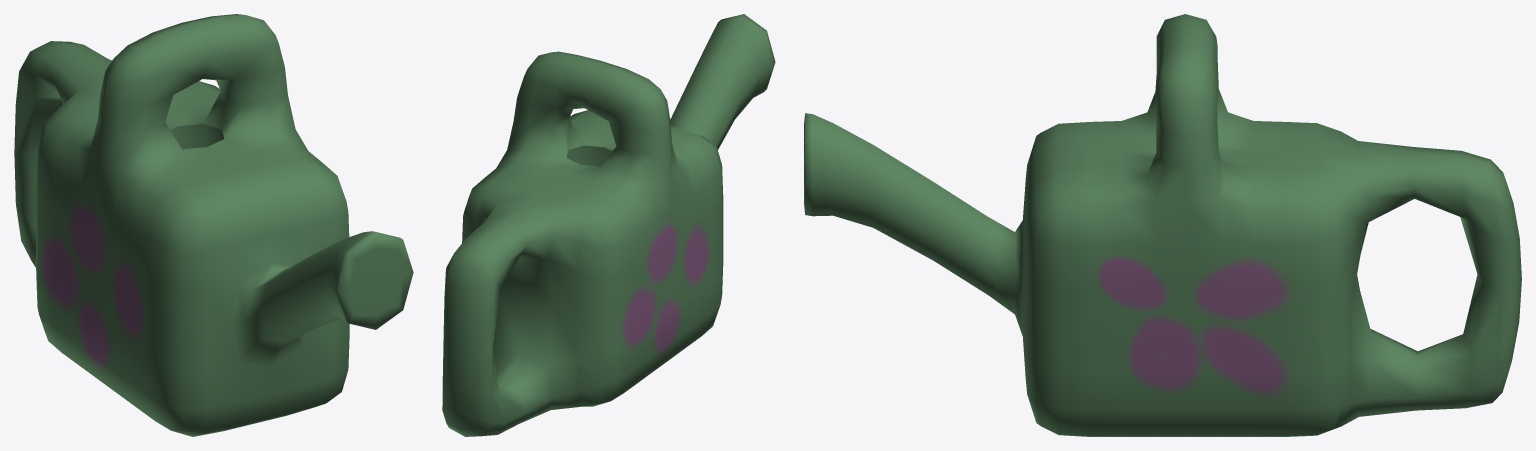
The model's file is wateringCan.fbx.
3 views of the same model, side by side, from view 1: azimuth 30°, elevation 25°; view 2: azimuth 150°, elevation 25°; view 3: azimuth 270°, elevation 25° (orthographic). The views are drawn at different scales.
Parts seen in each view (by area): view 1: WaterinCan; view 2: WaterinCan; view 3: WaterinCan.
Part boxes in pixels (x1,y1,x2,y2): WaterinCan: [14, 14, 413, 436]; WaterinCan: [442, 14, 775, 436]; WaterinCan: [804, 14, 1521, 436].
Bounding box in the file's own units: 1.4 × 2.53 × 4.4.
